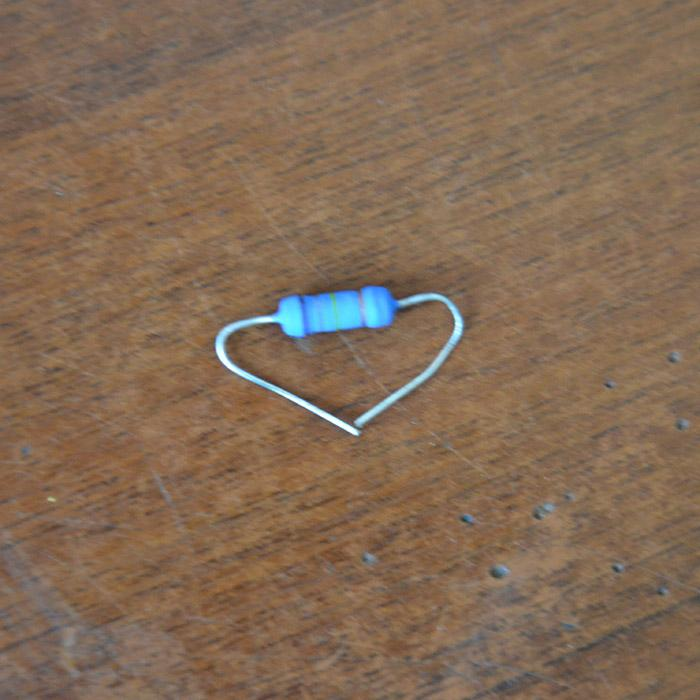resistor: (271, 285, 399, 338)
